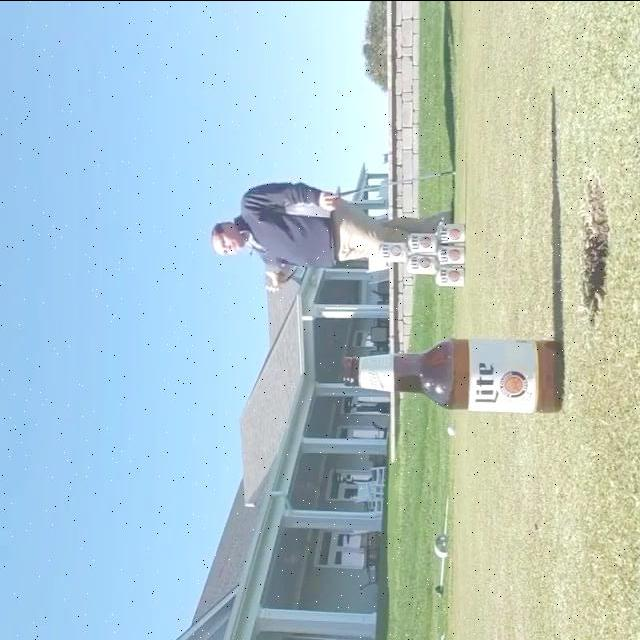golf ball: (447, 424, 454, 436)
golf club-handle: (340, 170, 456, 196)
